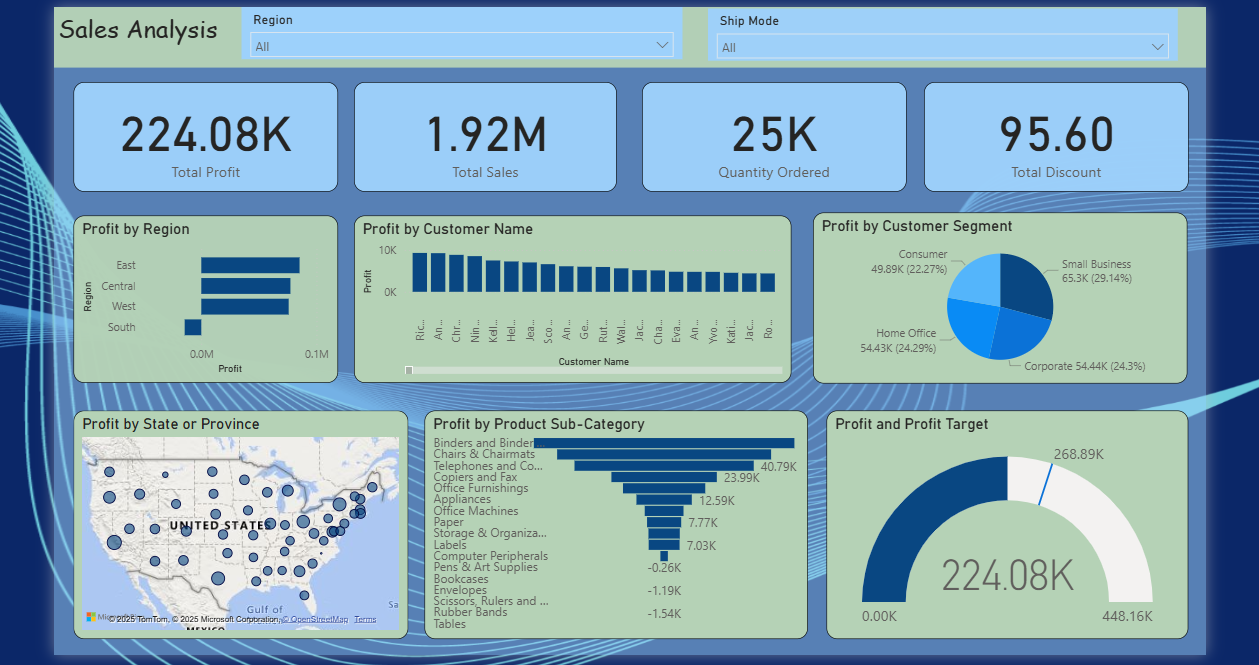

The page's visual inventory and layout, read from the dashboard file:
{"tool":"powerbi","page":{"name":"Dashboard","canvas":[1280,720],"ordinal":0},"visuals":[{"type":"textbox","box":[0,0,1280,67.5],"z":0},{"type":"card","fields":{"Values":["Orders.Profit"]},"box":[22,84,294,122],"z":1000},{"type":"card","fields":{"Values":["Orders.Sales"]},"box":[334,84,292,122],"z":2000},{"type":"card","fields":{"Values":["Orders.Quantity ordered new"]},"box":[654,84,294,122],"z":3000},{"type":"card","fields":{"Values":["Orders.Discount"]},"box":[966,84,294,122],"z":4000},{"type":"barChart","fields":{"Y":["Orders.Profit"],"Category":["Orders.Region"]},"box":[22,232,294,186],"z":5000},{"type":"columnChart","fields":{"Category":["Orders.Customer Name"],"Y":["Orders.Profit"]},"box":[334,232,486,186],"z":6000},{"type":"pieChart","fields":{"Category":["Orders.Customer Segment"],"Y":["Orders.Profit"]},"box":[844,228,416,190],"z":7000},{"type":"map","fields":{"Category":["Orders.State or Province"],"Size":["Orders.Profit"]},"box":[22,448,372,254],"z":8000},{"type":"funnel","fields":{"Category":["Orders.Product Sub-Category"],"Y":["Orders.Profit"]},"box":[412,448,426,254],"z":9000},{"type":"gauge","fields":{"Y":["Orders.Profit"],"TargetValue":["Orders.ProfitTarget"]},"box":[858,448,402,254],"z":10000},{"type":"slicer","fields":{"Values":["Orders.Region"]},"box":[208,0,490,58],"z":11000},{"type":"slicer","fields":{"Values":["Orders.Ship Mode"]},"box":[726,2,522,58],"z":12000}]}

Visuals, with their boxes in screenshot pixels (x1, y1, x2, y2):
textbox: x1=36, y1=0, x2=1203, y2=62
card - Orders.Profit: x1=56, y1=77, x2=324, y2=188
card - Orders.Sales: x1=341, y1=77, x2=607, y2=188
card - Orders.Quantity ordered new: x1=632, y1=77, x2=900, y2=188
card - Orders.Discount: x1=917, y1=77, x2=1185, y2=188
barChart - Orders.Profit x Orders.Region: x1=56, y1=211, x2=324, y2=381
columnChart - Orders.Customer Name x Orders.Profit: x1=341, y1=211, x2=784, y2=381
pieChart - Orders.Customer Segment x Orders.Profit: x1=805, y1=208, x2=1185, y2=381
map - Orders.State or Province x Orders.Profit: x1=56, y1=408, x2=395, y2=640
funnel - Orders.Product Sub-Category x Orders.Profit: x1=412, y1=408, x2=800, y2=640
gauge - Orders.Profit x Orders.ProfitTarget: x1=818, y1=408, x2=1185, y2=640
slicer - Orders.Region: x1=226, y1=0, x2=672, y2=53
slicer - Orders.Ship Mode: x1=698, y1=2, x2=1174, y2=55
